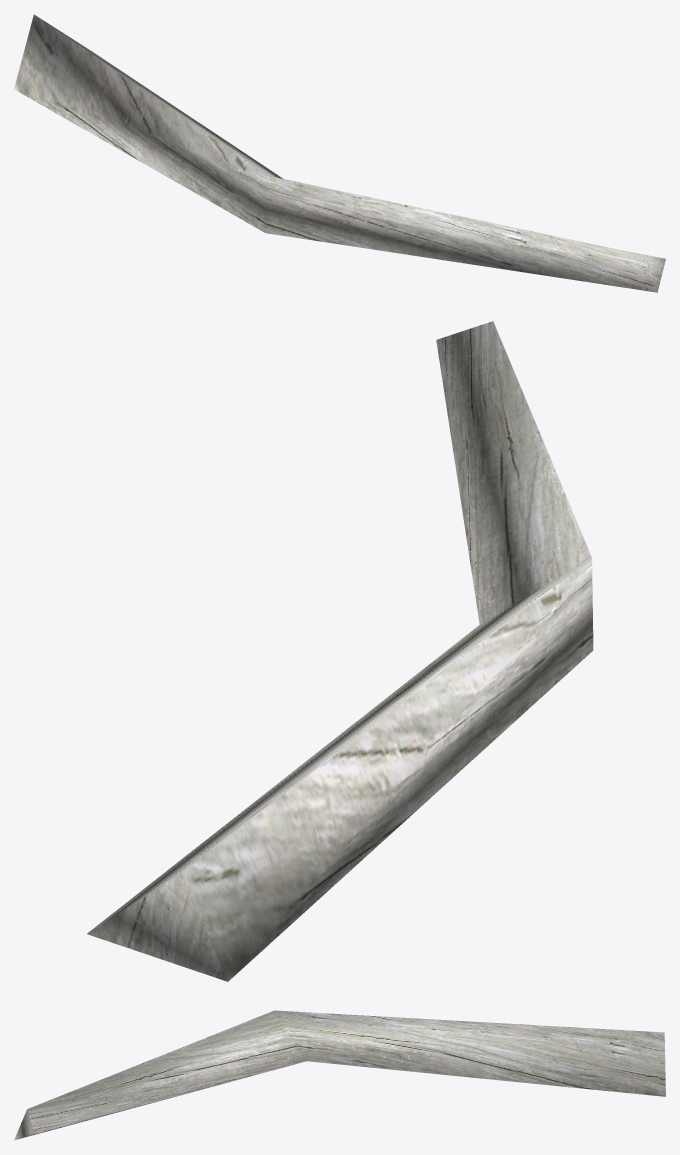
Rendered from shor_driftwood_smal_a1_l1.fbx.
The picture shows the model from 3 angles, top to bottom: view 1: azimuth 30°, elevation 25°; view 2: azimuth 150°, elevation 25°; view 3: azimuth 270°, elevation 25°; orthographic projection. The views are drawn at different scales.
Visible parts, largest first — view 1: mesh_node; view 2: mesh_node; view 3: mesh_node.
Boxes of the visible parts, x1,y1,x2,y2 form: mesh_node: [14, 14, 665, 292]; mesh_node: [87, 321, 593, 981]; mesh_node: [14, 1010, 665, 1140].
Size of the model in its own units: 0.3288 by 0.1054 by 0.8962.
